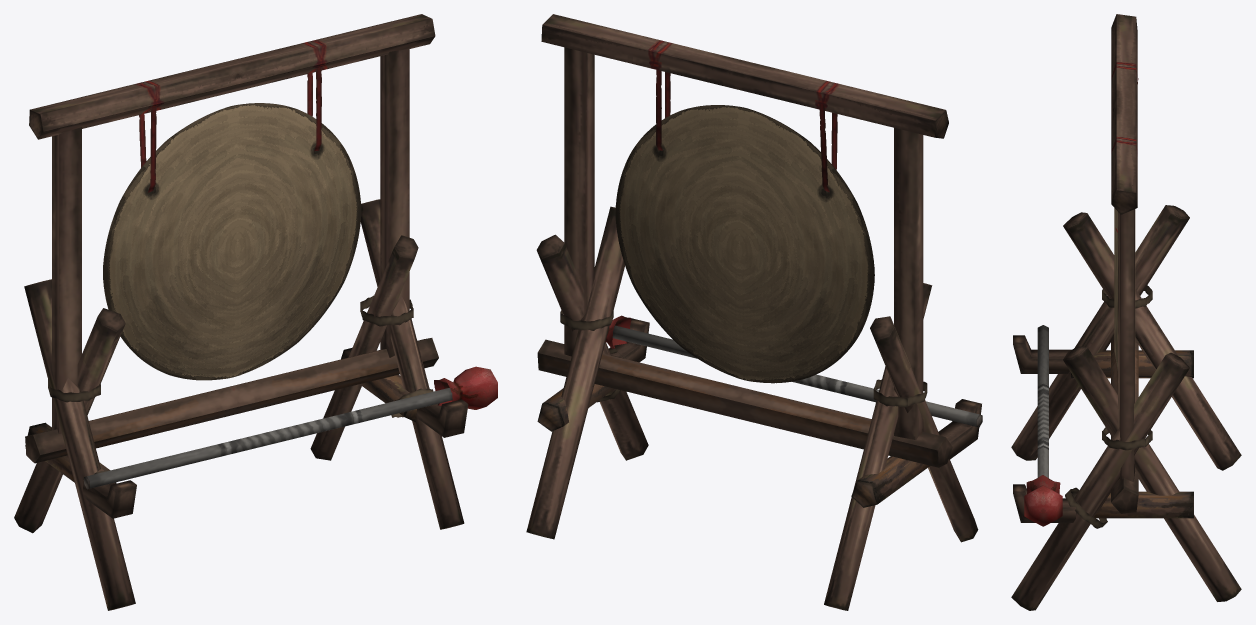
File: PRP_Gong.FBX
The picture shows the model from 3 angles, left to right: view 1: azimuth 30°, elevation 25°; view 2: azimuth 150°, elevation 25°; view 3: azimuth 270°, elevation 25°; orthographic projection. The views are drawn at different scales.
Visible parts, largest first — view 1: PRP_Gong; view 2: PRP_Gong; view 3: PRP_Gong.
Part boxes in pixels (x1,y1,x2,y2): PRP_Gong: (14,14,497,610); PRP_Gong: (526,14,982,610); PRP_Gong: (1011,14,1241,610).
Bounding box in the file's own units: 343 × 367 × 177.
1 material, 1 textured.
